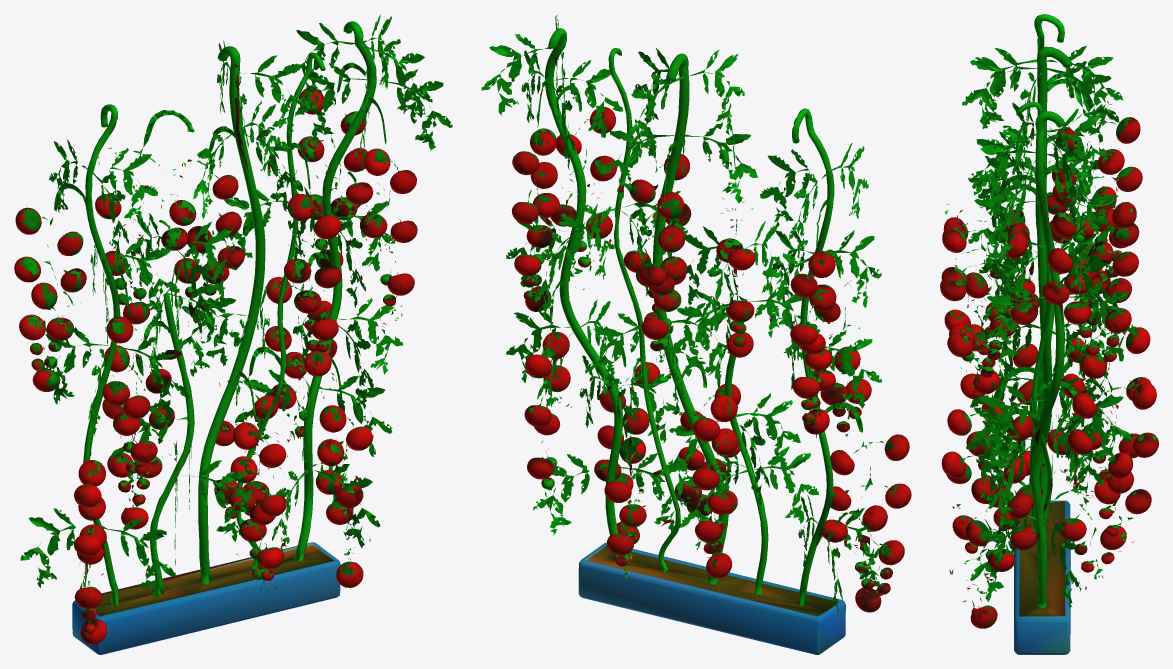
File: tomato_plant.dae
3 views of the same model, side by side, from view 1: azimuth 30°, elevation 25°; view 2: azimuth 150°, elevation 25°; view 3: azimuth 270°, elevation 25° (orthographic).
Visible parts, largest first — view 1: Tomatera Mejoada; view 2: Tomatera Mejoada; view 3: Tomatera Mejoada.
Boxes of the visible parts, x1,y1,x2,y2 form: Tomatera Mejoada: (14, 14, 452, 654); Tomatera Mejoada: (481, 15, 911, 654); Tomatera Mejoada: (940, 14, 1158, 654).
Bounding box in the file's own units: 1.57 × 0.7716 × 2.19.
